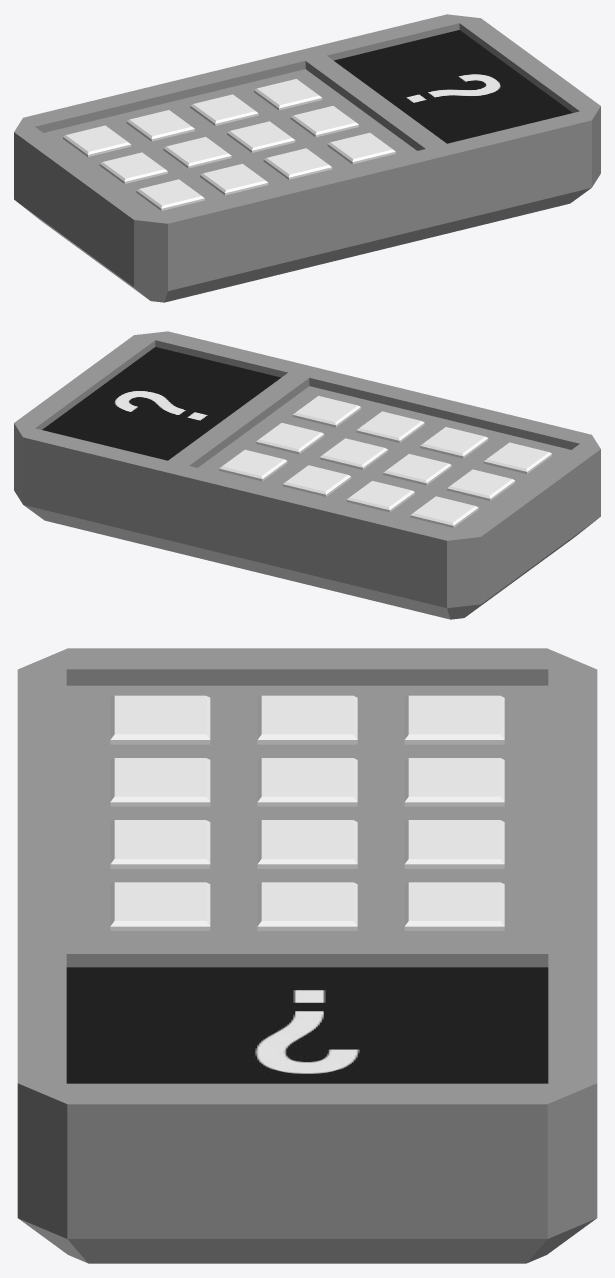
Rendered from phone_5_empty.glb.
3 renders of one model, top to bottom at view 1: azimuth 30°, elevation 25°; view 2: azimuth 150°, elevation 25°; view 3: azimuth 270°, elevation 25°, orthographic. The views are drawn at different scales.
Visible parts, largest first — view 1: phone_5_empty; view 2: phone_5_empty; view 3: phone_5_empty.
Boxes of the visible parts, box(x1,y1,x2,y2) form: phone_5_empty: box(14, 14, 600, 302); phone_5_empty: box(14, 331, 600, 619); phone_5_empty: box(17, 648, 597, 1263).
Size of the model in its own units: 0.3353 by 0.0622 by 0.1801.
4 materials, 2 textured.
